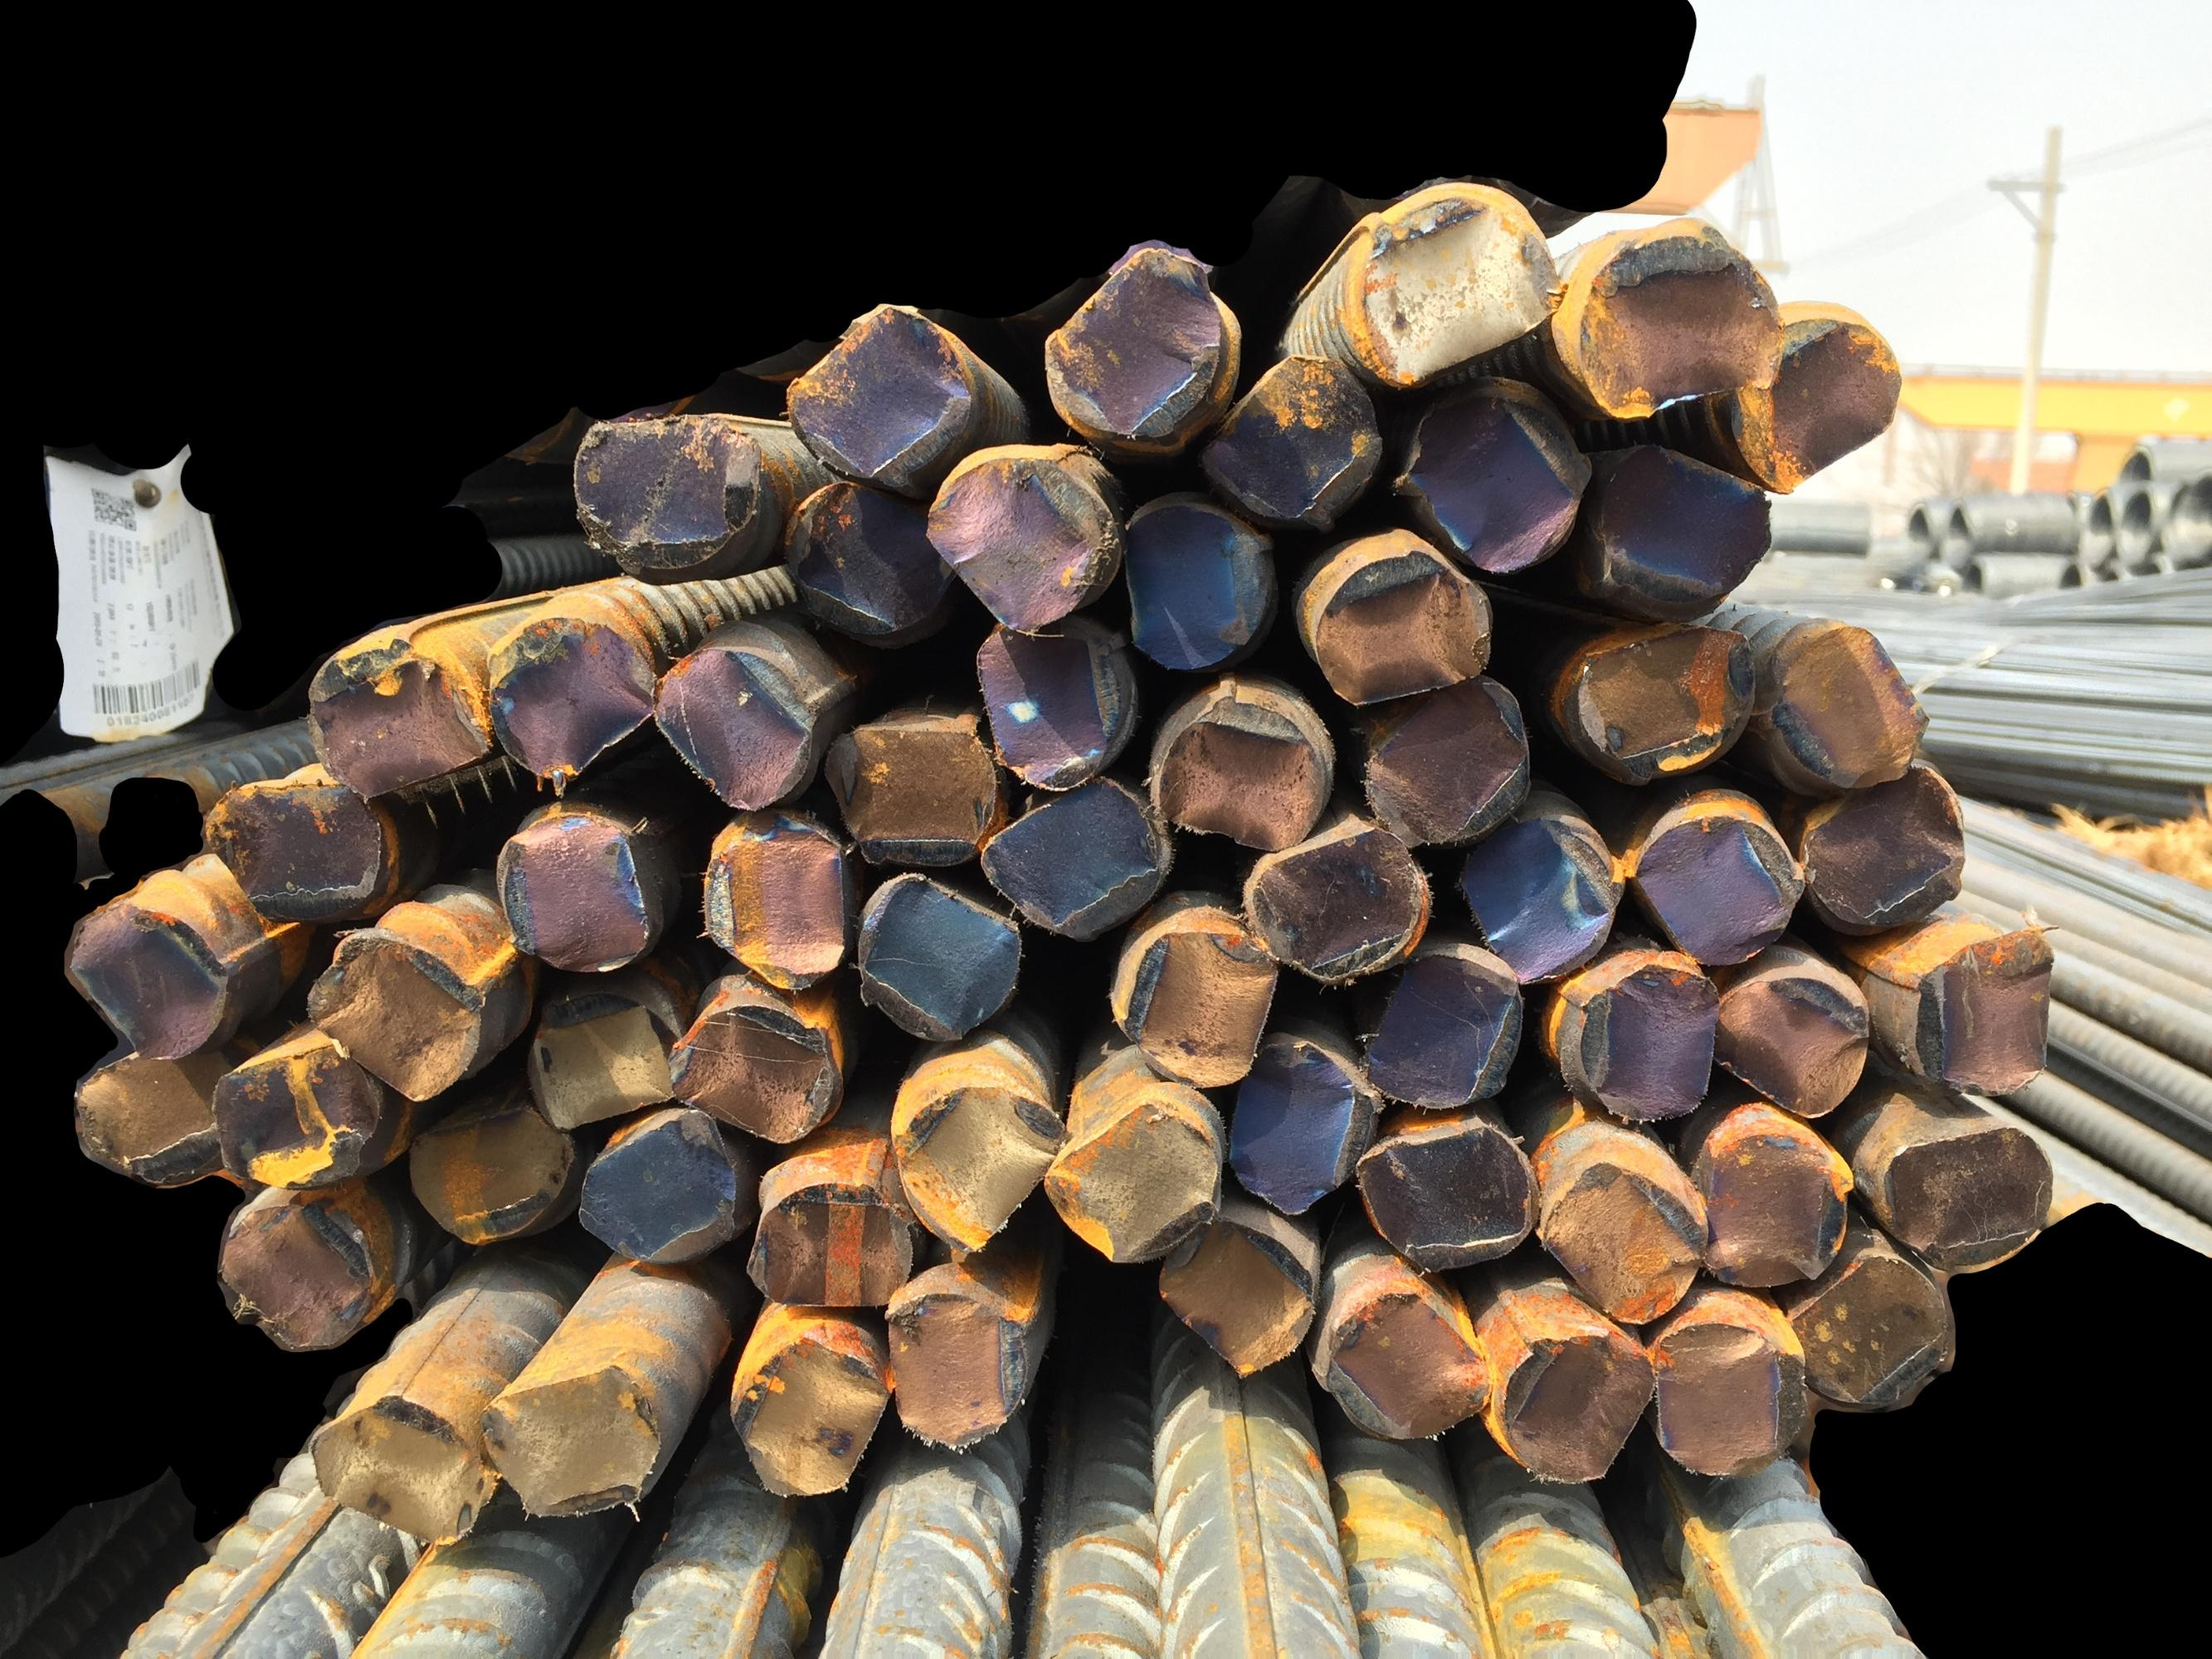bar: (1347, 165, 1565, 392), (1578, 215, 1788, 431), (1399, 366, 1596, 572), (1032, 248, 1229, 445), (918, 440, 1110, 634), (1036, 1089, 1227, 1270), (565, 410, 772, 575), (890, 1080, 1076, 1262), (845, 868, 1027, 1051), (478, 606, 660, 788), (1630, 1302, 1810, 1487), (641, 634, 819, 820), (299, 929, 485, 1107), (775, 300, 962, 477), (1303, 1279, 1492, 1454), (723, 1315, 895, 1505), (1205, 1019, 1362, 1227), (1354, 667, 1532, 849), (1146, 1204, 1326, 1383), (1559, 620, 1761, 780), (1436, 808, 1618, 985), (1784, 1243, 1964, 1418), (1535, 1151, 1705, 1335), (814, 710, 999, 879), (305, 640, 497, 802), (1243, 816, 1429, 985), (972, 606, 1138, 794), (1151, 684, 1328, 860), (1594, 437, 1775, 610), (1302, 545, 1493, 708), (1880, 1113, 2059, 1287), (1486, 1318, 1660, 1496), (480, 1365, 675, 1524), (1800, 756, 1967, 938), (777, 474, 954, 645), (1686, 1119, 1854, 1299), (1766, 624, 1935, 802), (695, 802, 855, 991), (1107, 497, 1270, 677), (572, 1102, 743, 1272), (207, 1191, 379, 1360), (1707, 954, 1875, 1127), (1751, 307, 1902, 500), (1349, 1119, 1536, 1275), (1210, 347, 1369, 529), (308, 1395, 490, 1554), (65, 898, 233, 1068), (1561, 951, 1722, 1127), (1632, 808, 1804, 971), (396, 1102, 584, 1247), (1910, 922, 2065, 1098), (205, 1036, 377, 1194), (671, 995, 843, 1154), (743, 1160, 916, 1317), (207, 769, 387, 917), (69, 1038, 244, 1190), (1356, 945, 1521, 1107), (490, 818, 650, 981), (982, 787, 1162, 932), (879, 1284, 1027, 1459), (1129, 917, 1279, 1089), (518, 981, 684, 1135)
